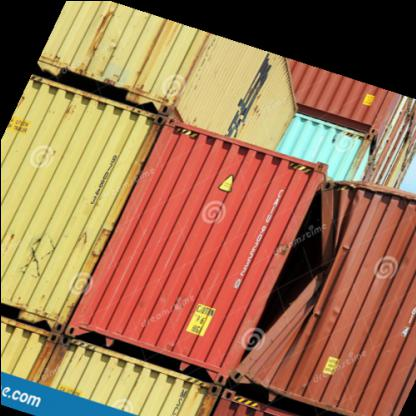Damage: (236, 184, 368, 356)
